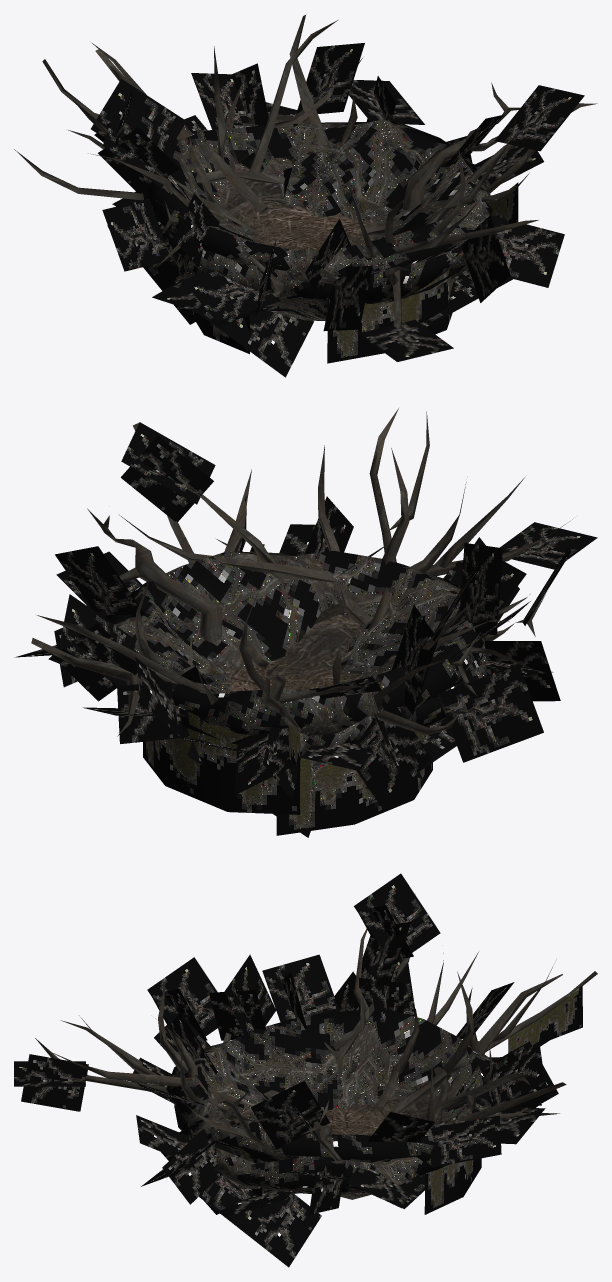
The model's file is eso_ss16_nest-transformed.glb.
3 views of the same model, one above another, from view 1: azimuth 30°, elevation 25°; view 2: azimuth 150°, elevation 25°; view 3: azimuth 270°, elevation 25° (orthographic). The views are drawn at different scales.
Parts seen in each view (by area): view 1: default; view 2: default; view 3: default.
Boxes of the visible parts, left/top/right/bottom form: default: left=14, top=15, right=597, bottom=377; default: left=14, top=408, right=597, bottom=837; default: left=14, top=873, right=597, bottom=1267.
Size of the model in its own units: 19.66 by 11.73 by 24.71.
3 materials, 3 textured.
